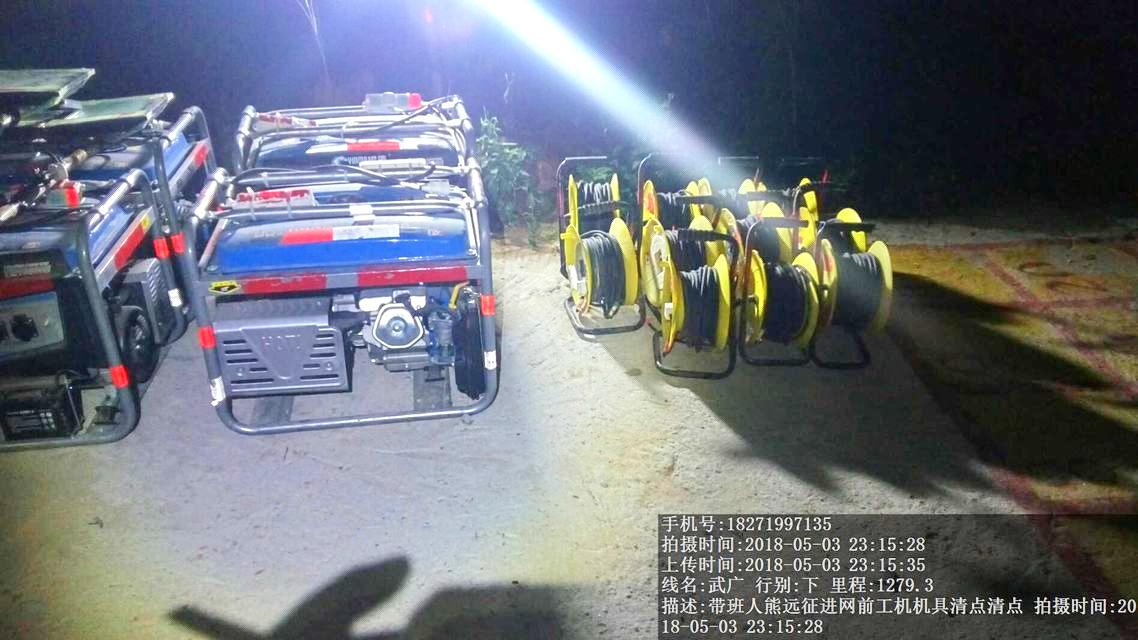DJ: (184, 171, 521, 444), (240, 102, 494, 176)
